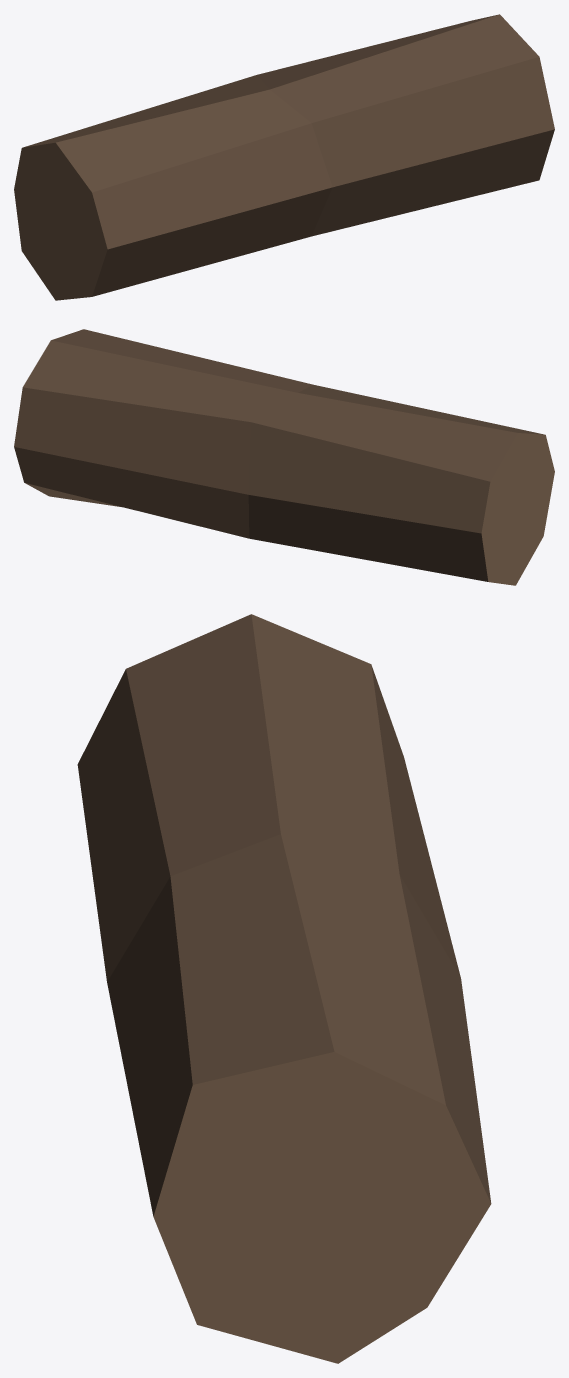
The model's file is WoodenLog.fbx.
3 views of the same model, one above another, from view 1: azimuth 30°, elevation 25°; view 2: azimuth 150°, elevation 25°; view 3: azimuth 270°, elevation 25° (orthographic). The views are drawn at different scales.
Parts seen in each view (by area): view 1: WoodenLog; view 2: WoodenLog; view 3: WoodenLog.
Boxes of the visible parts, box(x1,y1,x2,y2) form: WoodenLog: box(14, 14, 554, 300); WoodenLog: box(14, 329, 554, 585); WoodenLog: box(77, 614, 491, 1363).
Size of the model in its own units: 1.97 by 0.6462 by 0.7729.
